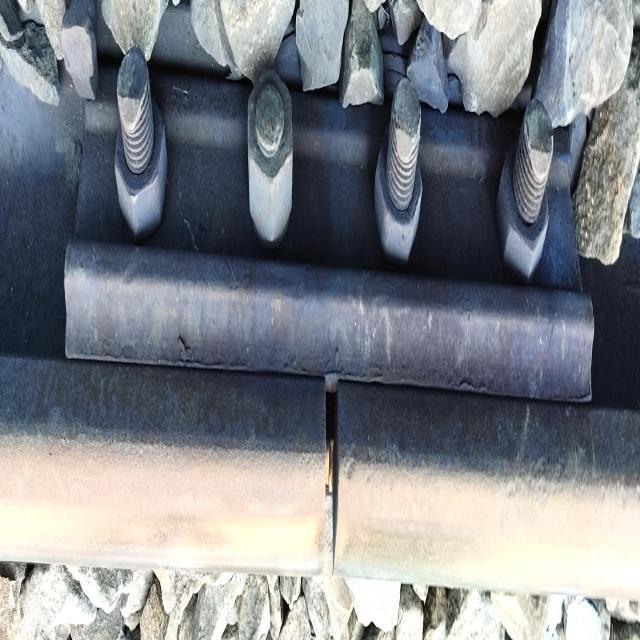Good Joint: (59, 47, 601, 421)
